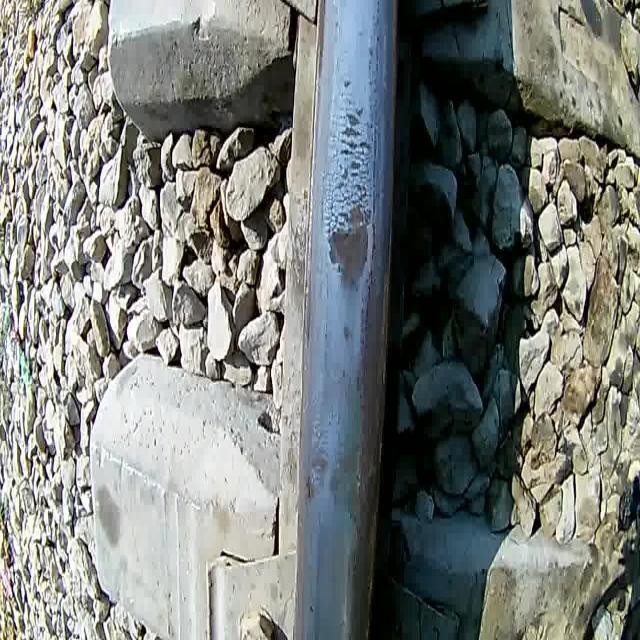Cracks: (371, 0, 381, 302)
Squats: (321, 76, 375, 298), (303, 443, 330, 505), (340, 316, 354, 348)
